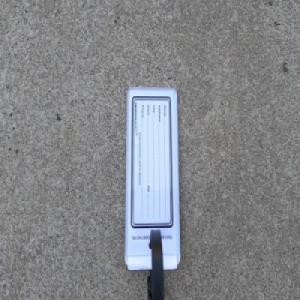LuggageTag: (122, 82, 181, 300)
